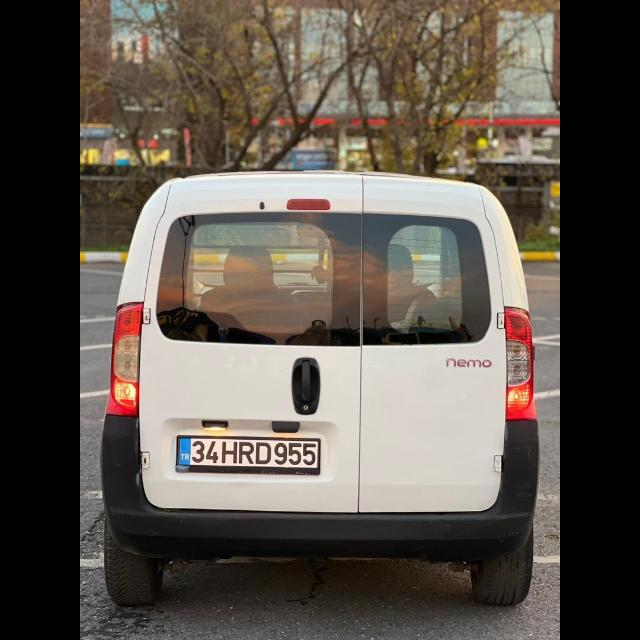Plaka: (178, 436, 320, 466)
